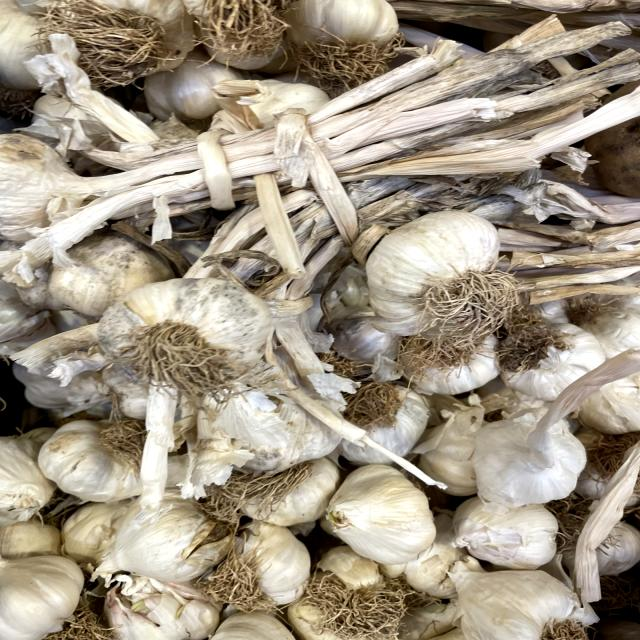garlic: (77, 254, 295, 399), (345, 194, 527, 329)
